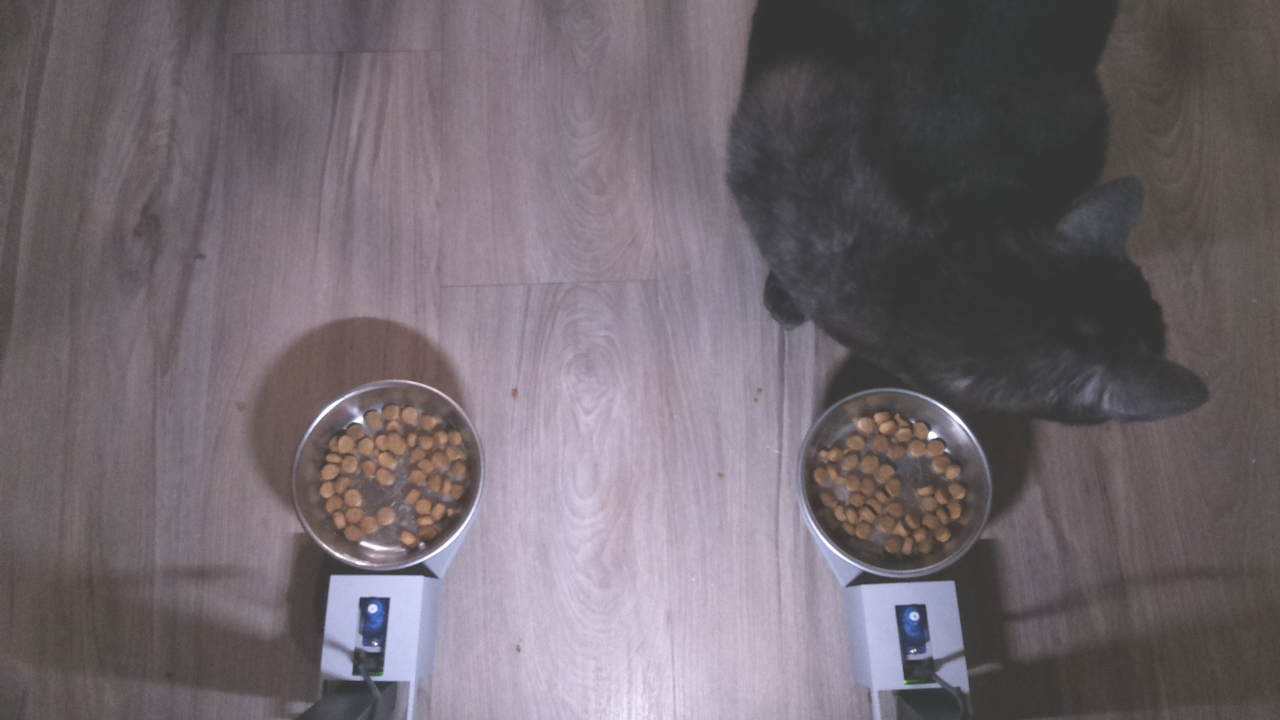open_bowl: (264, 364, 493, 575), (799, 383, 999, 585)
saki: (946, 161, 1216, 452)
